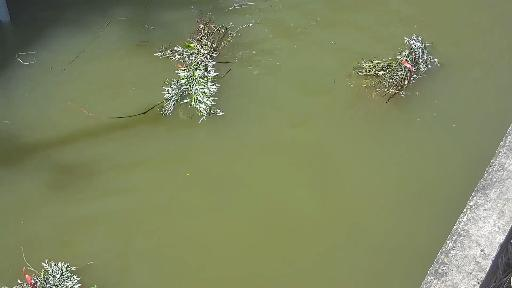twig: (132, 15, 251, 139), (358, 32, 446, 119), (0, 256, 102, 288)
